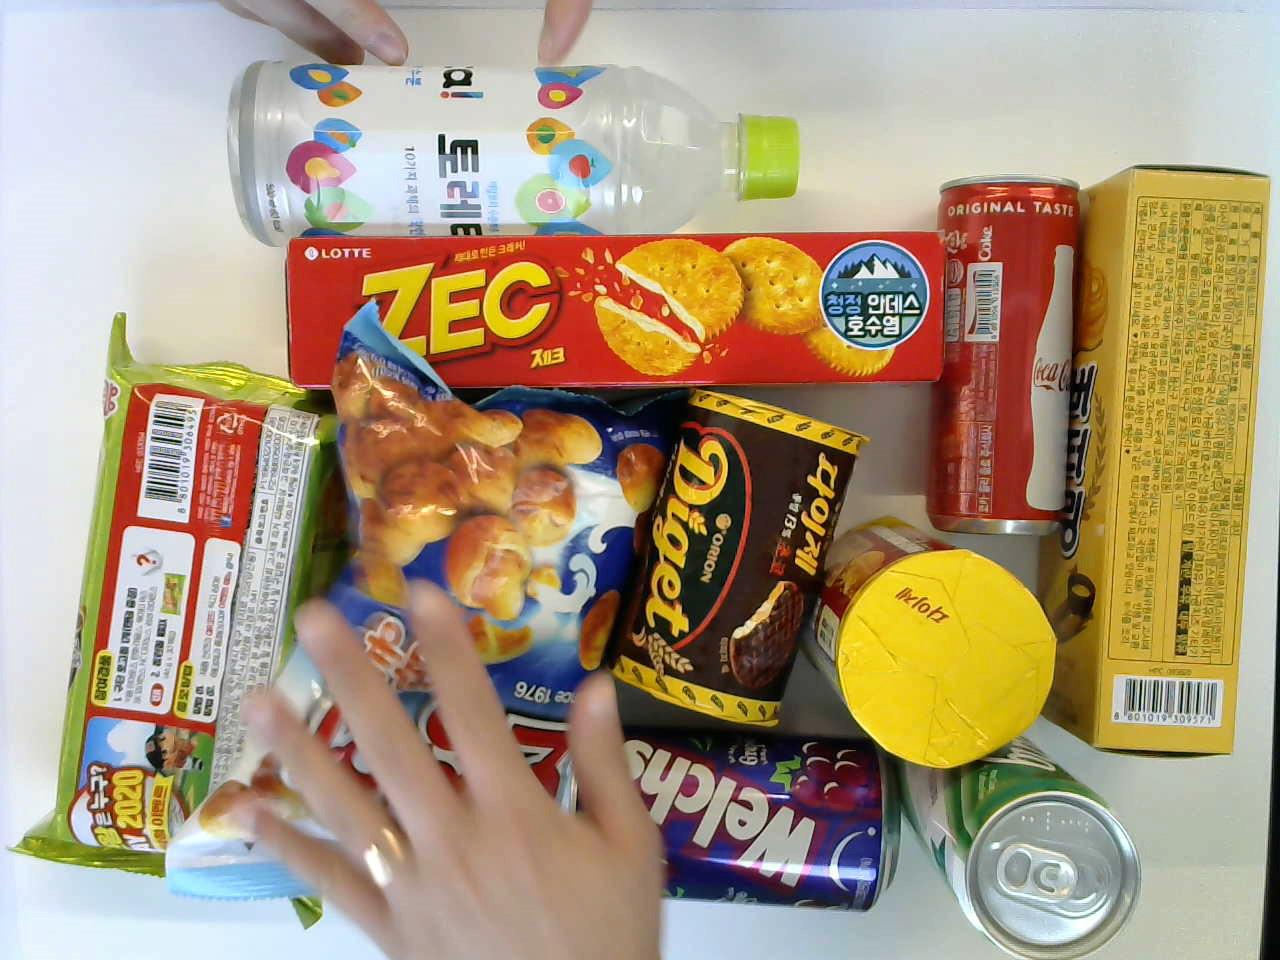buttering: (1070, 172, 1273, 755)
cidar: (902, 726, 1140, 956)
coke: (929, 177, 1078, 531)
diget_choco: (626, 399, 839, 717)
diget_ori: (837, 522, 1060, 751)
toreta: (225, 61, 796, 234)
zec: (282, 239, 938, 381)
